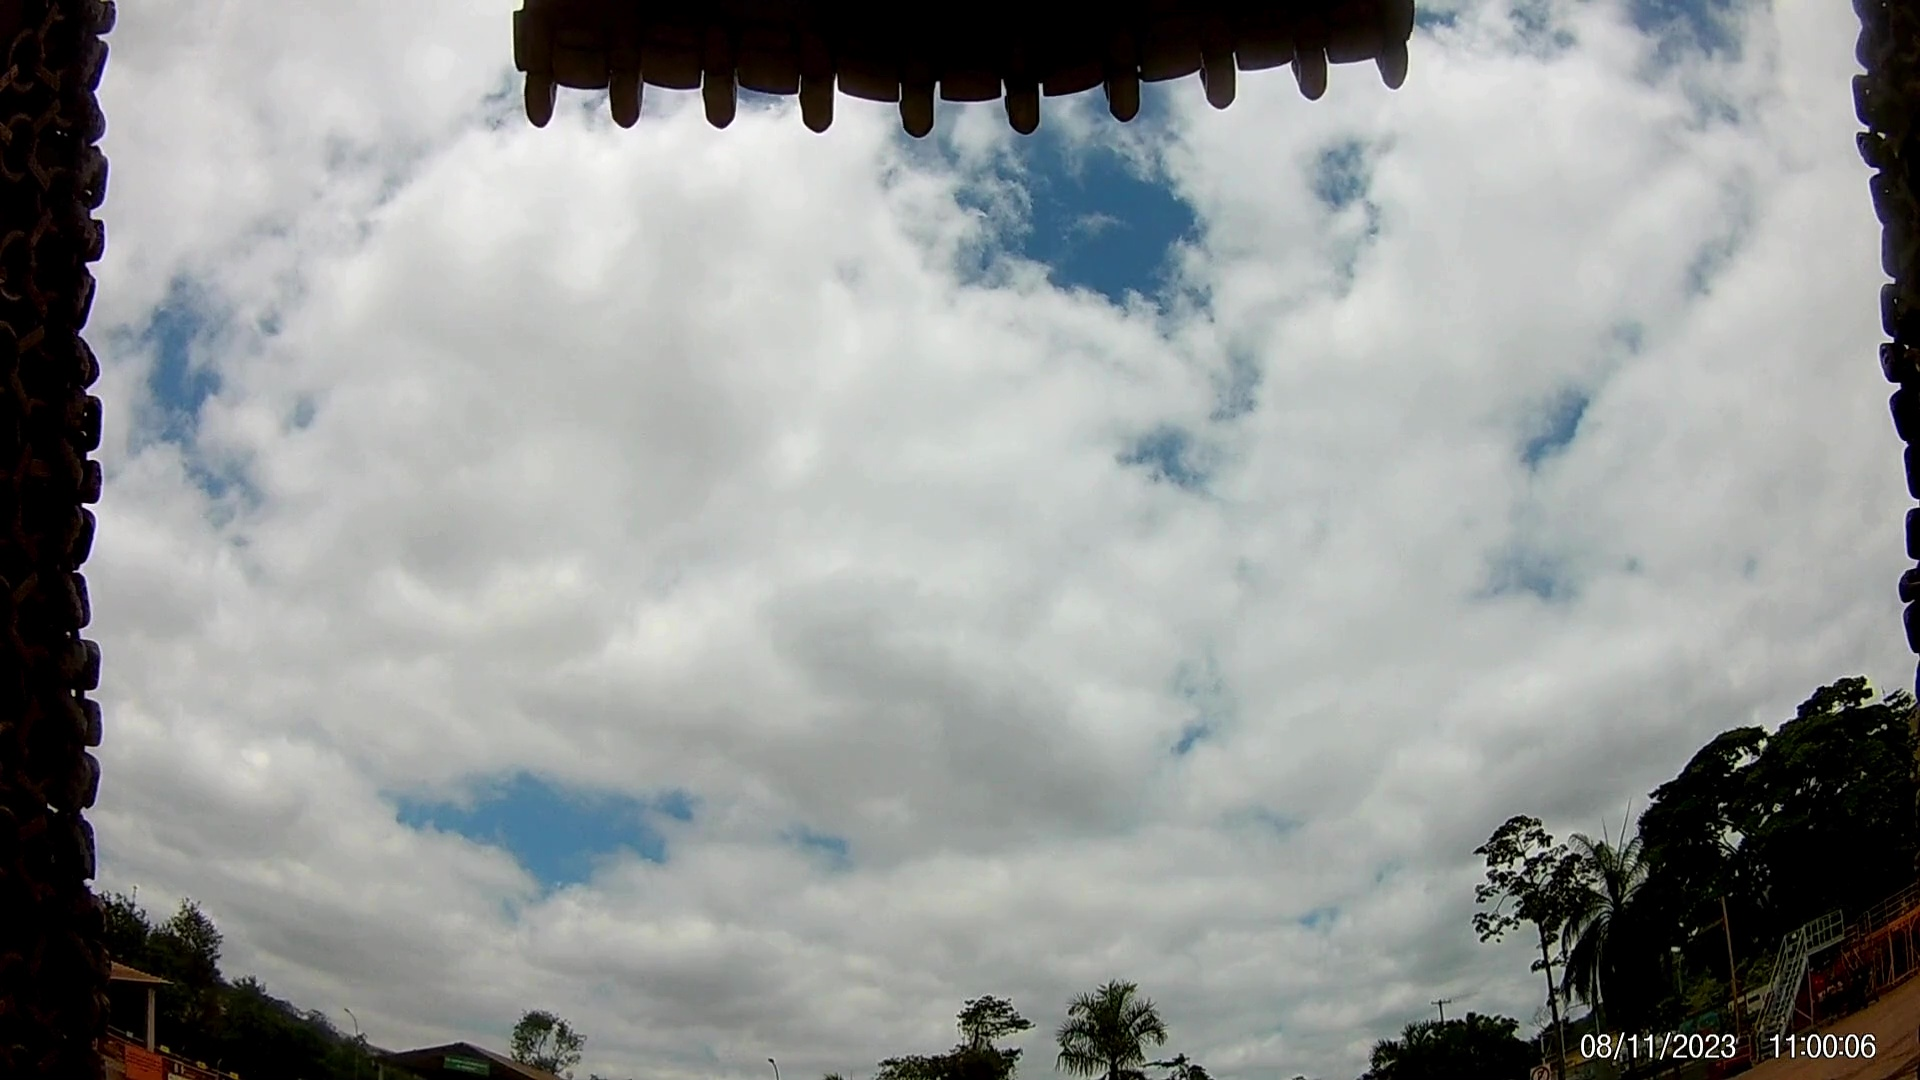FPS: (1095, 62, 1174, 127), (495, 80, 578, 135), (794, 69, 851, 145), (997, 74, 1048, 148), (1366, 32, 1425, 94), (1284, 47, 1346, 105), (698, 61, 744, 136), (1192, 41, 1242, 109), (889, 88, 947, 145), (592, 86, 655, 127)
